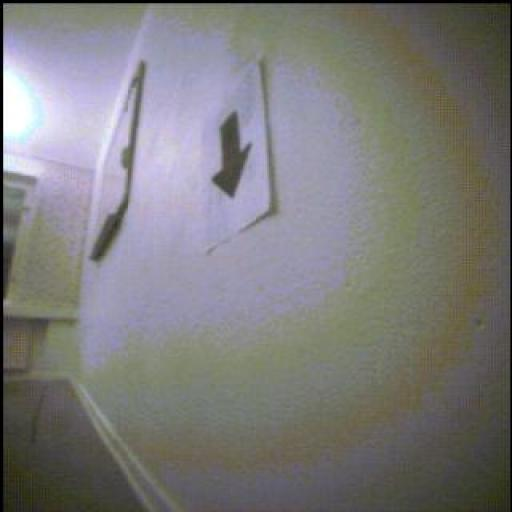arrow: (214, 113, 252, 198)
